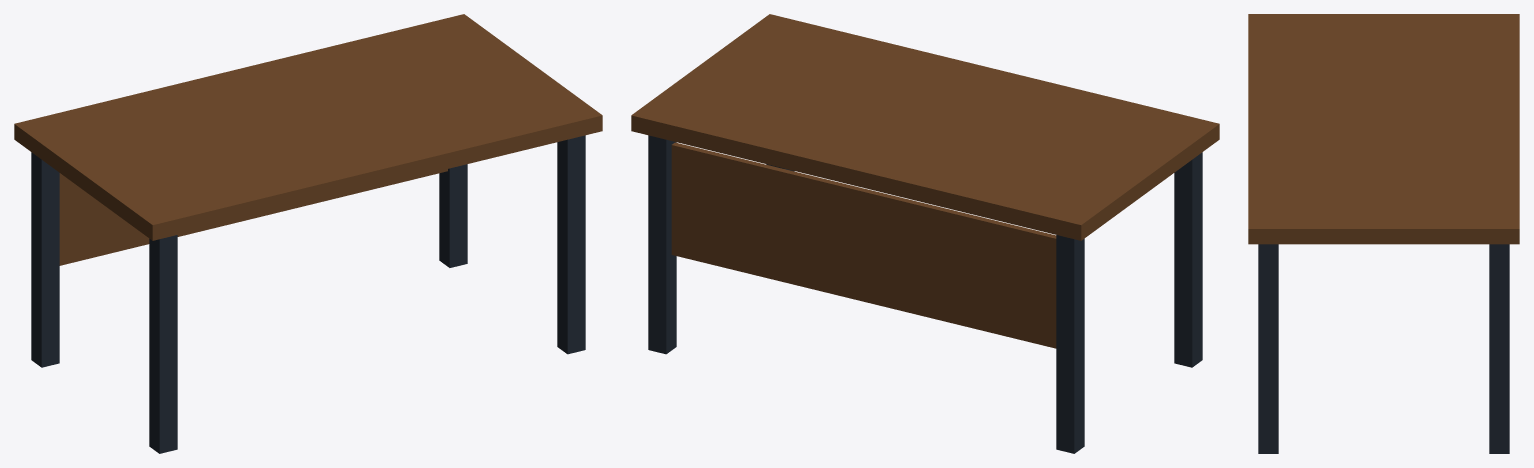
Rendered from desk_office.glb.
3 views of the same model, side by side, from view 1: azimuth 30°, elevation 25°; view 2: azimuth 150°, elevation 25°; view 3: azimuth 270°, elevation 25° (orthographic). The views are drawn at different scales.
Visible parts, largest first — view 1: Desk; view 2: Desk; view 3: Desk.
Part boxes in pixels (x1,y1,x2,y2): Desk: (14,14,602,453); Desk: (631,14,1219,453); Desk: (1248,14,1519,453).
Bounding box in the file's own units: 1.5 × 0.75 × 0.8.
